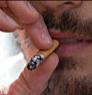Cigarette: (27, 39, 58, 70)
